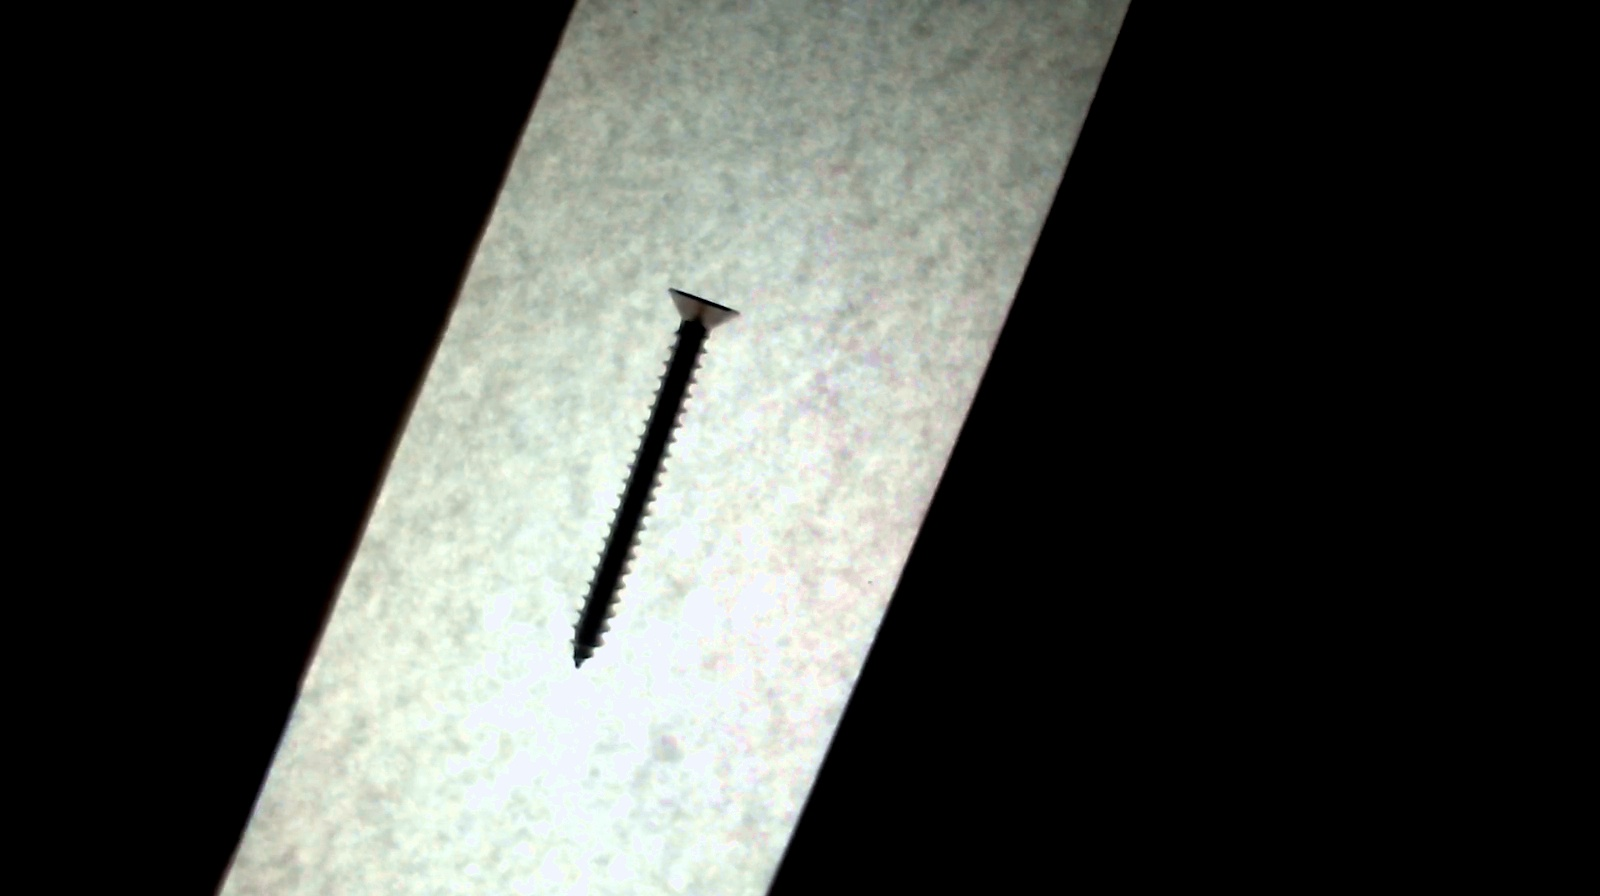S002: (534, 264, 773, 681)
